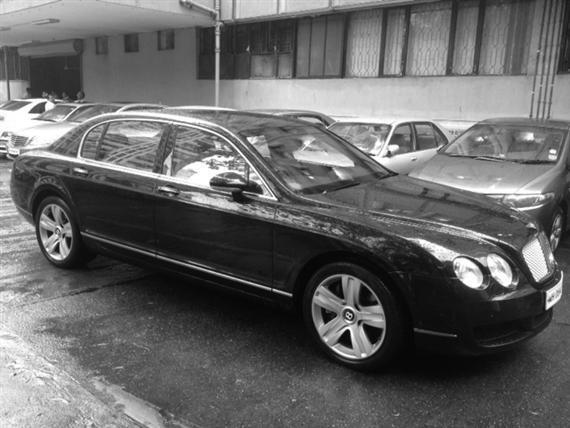car: (10, 99, 564, 376)
